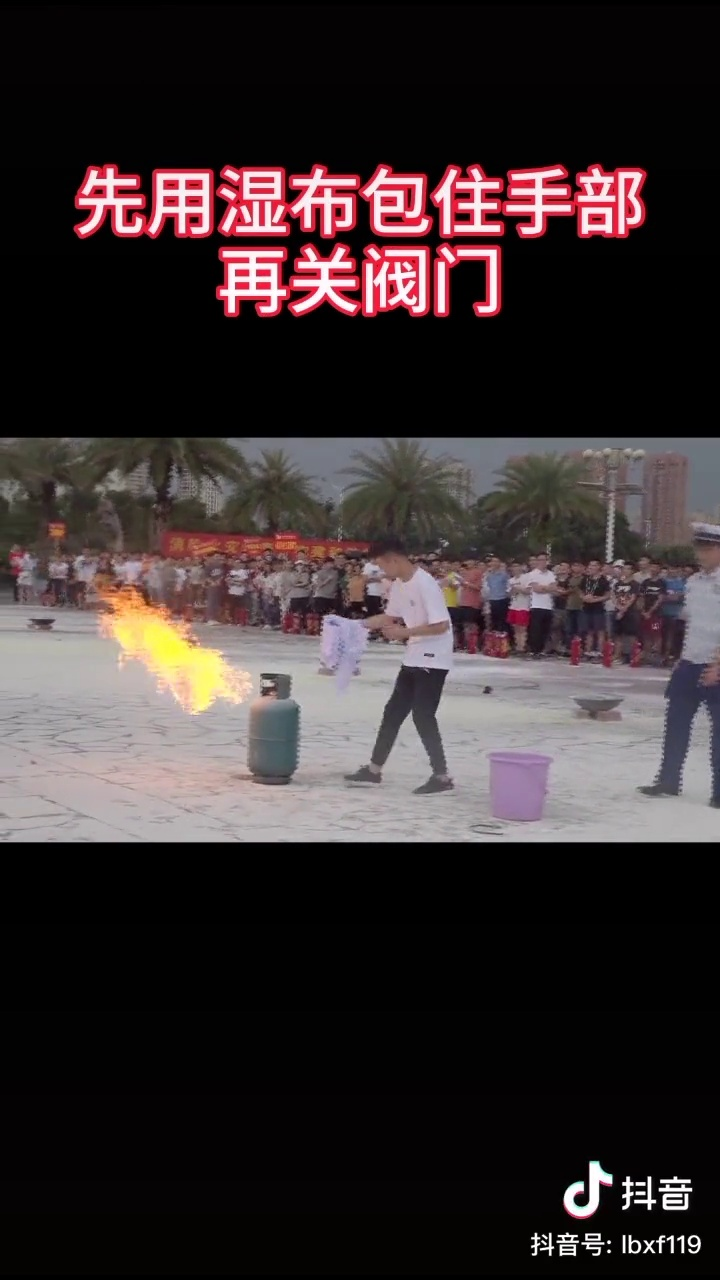fire: (96, 573, 245, 712)
